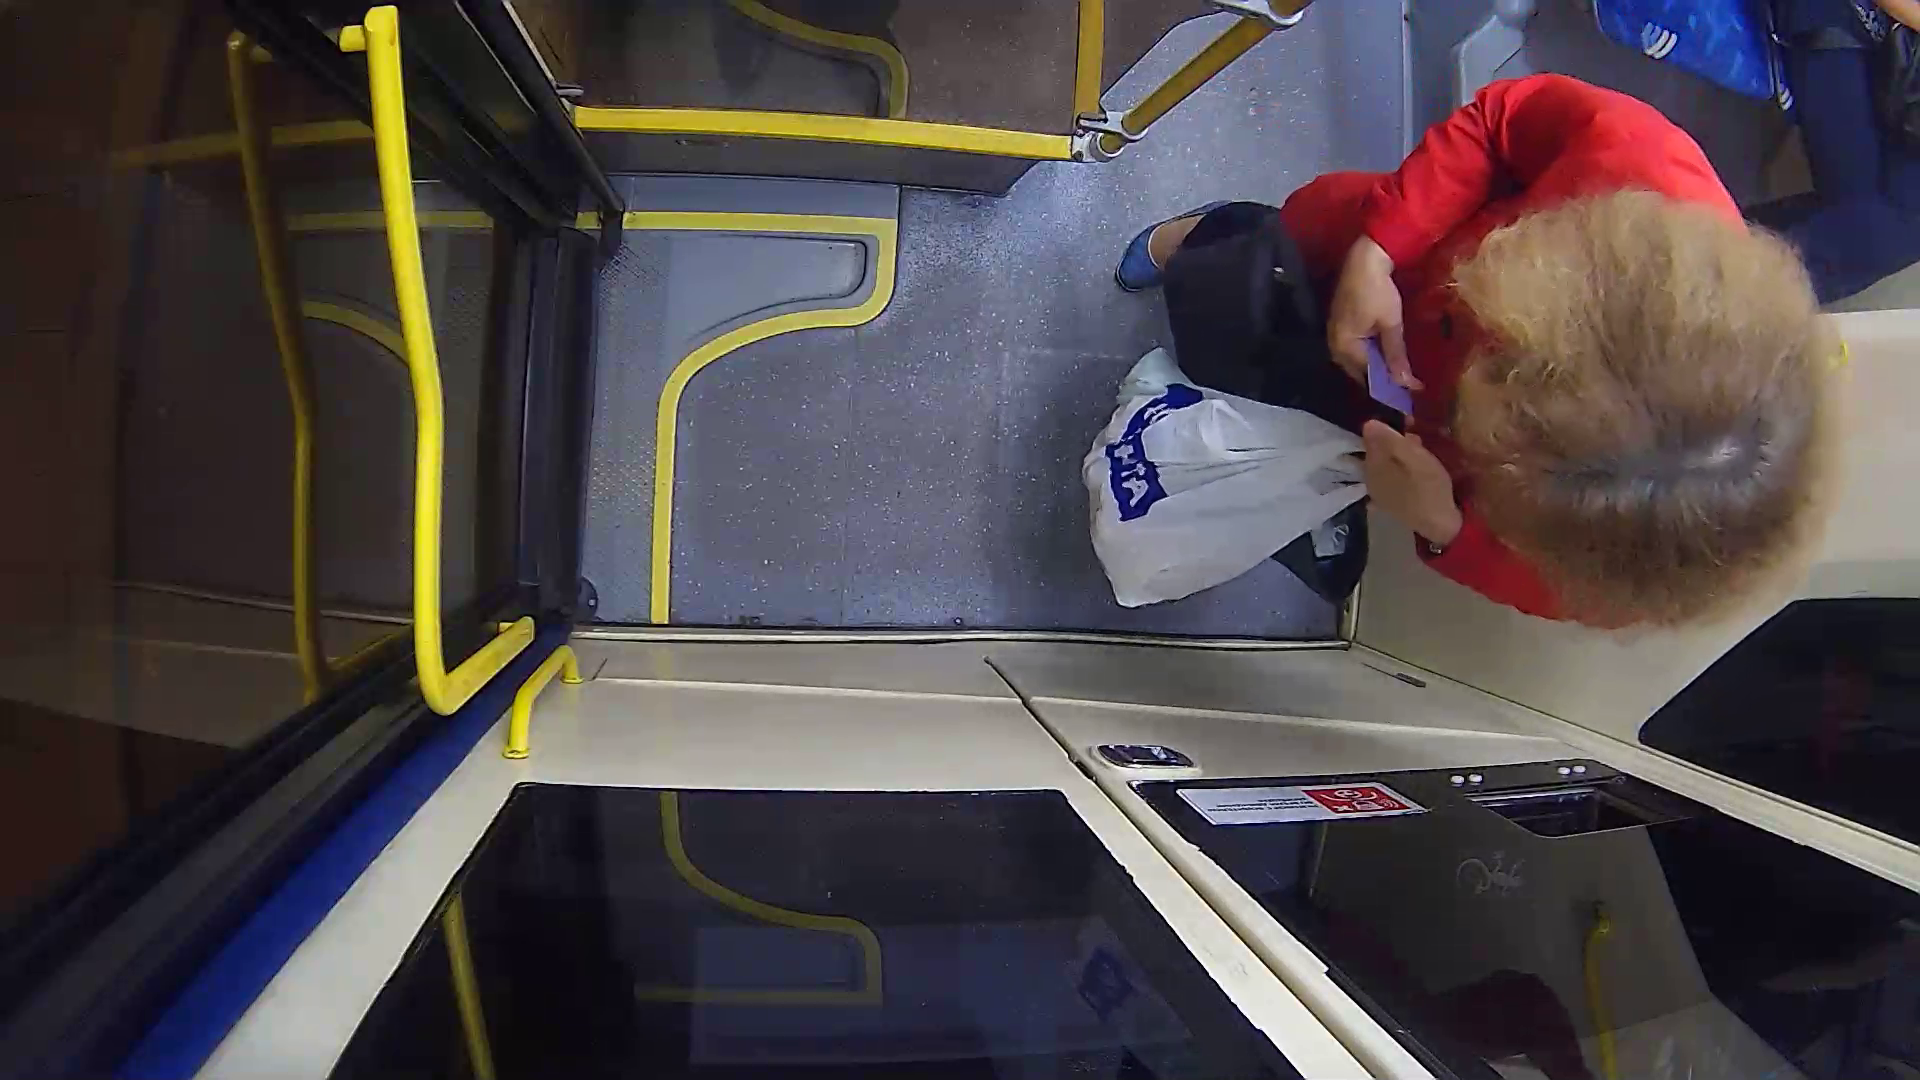person: (1088, 72, 1873, 644)
